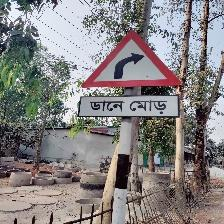Right-turn: (78, 31, 184, 121)
